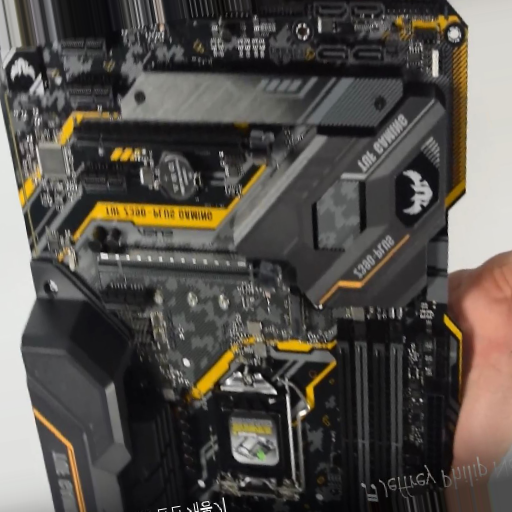CPU: (212, 370, 300, 499)
GPU: (73, 122, 275, 165), (97, 259, 281, 288)
MOTHERBOARD: (28, 3, 451, 512)
RAM: (337, 318, 405, 512)
